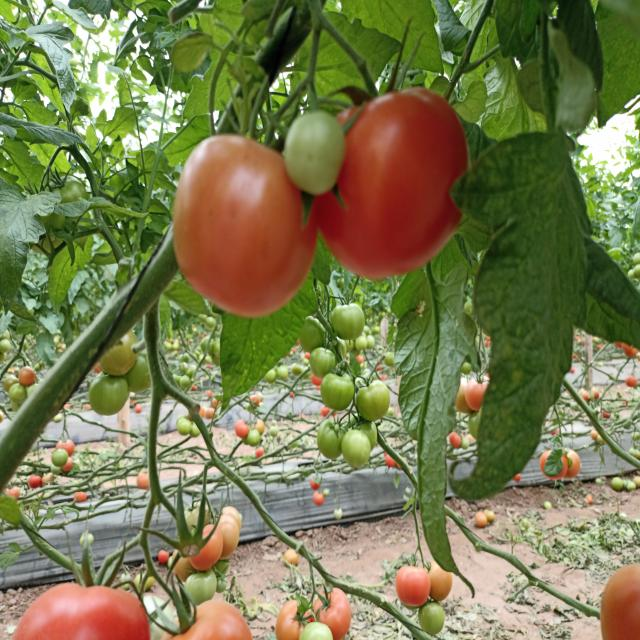Ripe Tomato: (318, 94, 468, 286), (173, 137, 314, 310), (16, 582, 147, 640), (312, 587, 351, 635), (278, 603, 313, 640), (399, 565, 429, 603), (465, 374, 490, 409)
Unripe Tomato: (288, 112, 346, 194), (93, 376, 129, 415), (100, 338, 137, 375), (185, 566, 217, 605), (359, 381, 389, 419), (322, 372, 353, 408), (334, 304, 364, 338), (429, 563, 457, 599), (341, 430, 371, 463), (312, 346, 336, 378), (319, 420, 340, 456), (422, 603, 444, 630)
